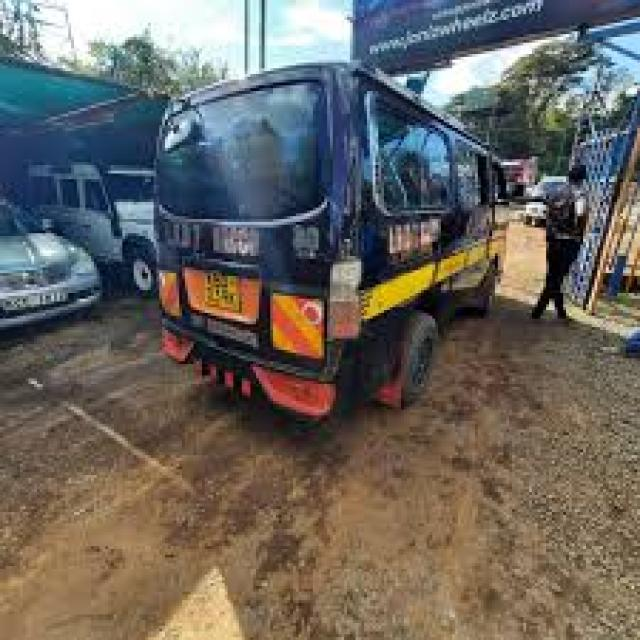matatu: (140, 54, 570, 446)
